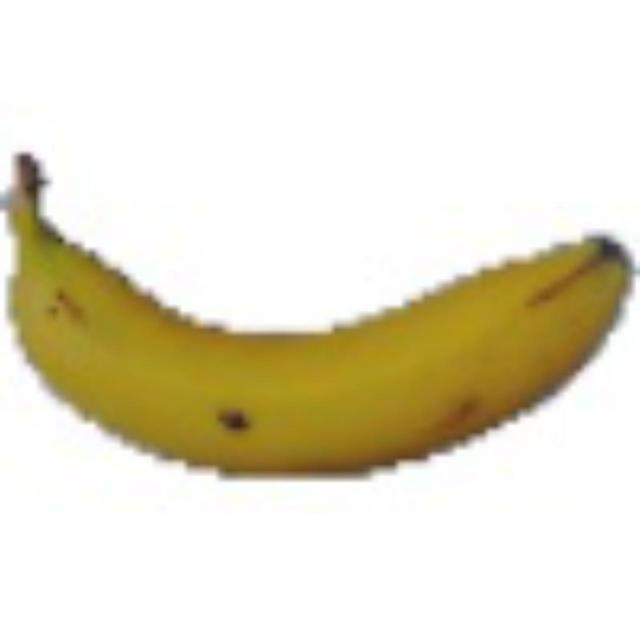banana: (2, 136, 640, 492)
